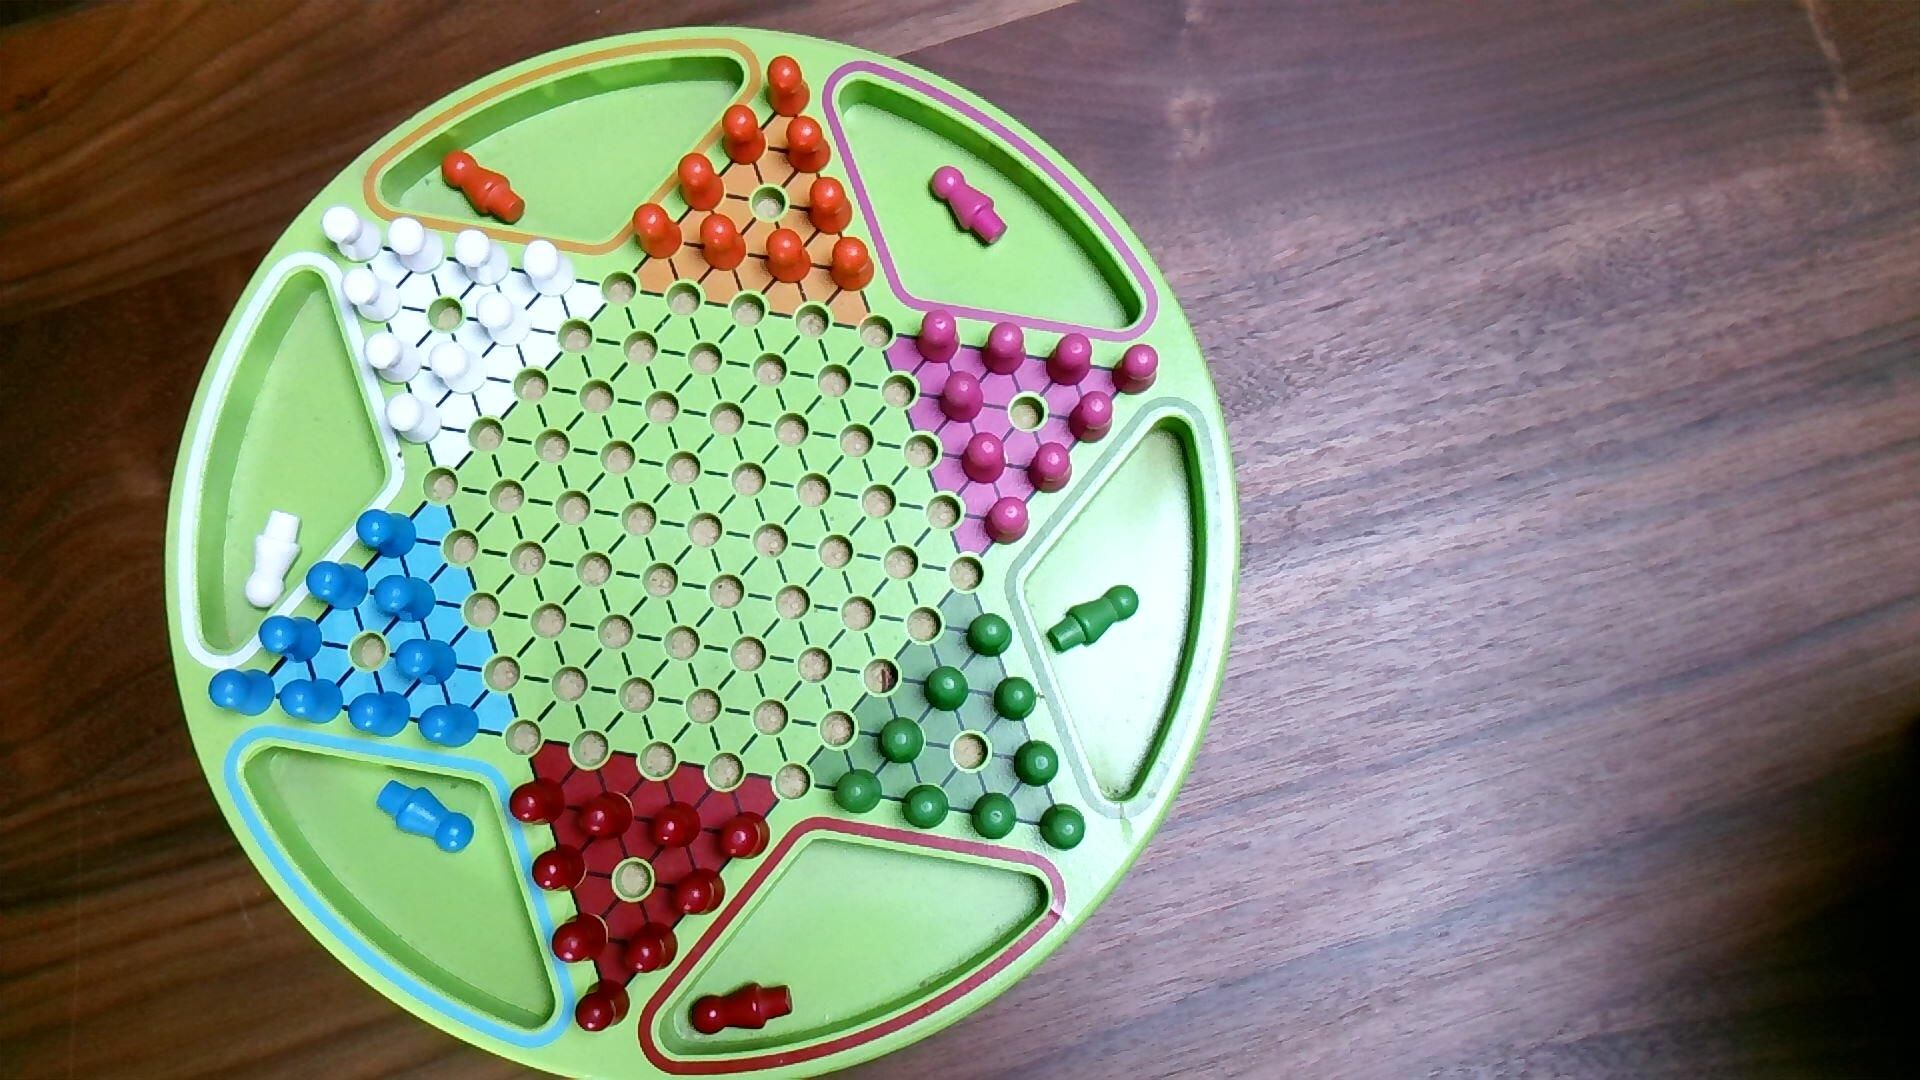B: (372, 572, 439, 626), (393, 636, 462, 688), (207, 667, 278, 717), (355, 506, 419, 560), (307, 559, 371, 613), (348, 688, 413, 741), (258, 615, 324, 666), (278, 676, 345, 727), (417, 702, 483, 752)
G: (876, 715, 928, 766), (1038, 802, 1089, 853), (832, 767, 885, 818), (922, 665, 973, 715), (971, 791, 1021, 843), (1013, 738, 1062, 790), (965, 611, 1015, 659), (901, 783, 952, 831), (992, 675, 1040, 723)
O: (719, 102, 770, 170), (632, 200, 687, 262), (698, 211, 750, 276), (764, 51, 814, 119), (676, 150, 729, 214), (762, 225, 815, 287), (804, 174, 856, 237), (825, 233, 877, 295), (785, 115, 833, 175)
R: (574, 976, 633, 1035), (618, 919, 680, 976), (574, 787, 636, 844), (551, 909, 611, 967), (508, 774, 568, 829), (716, 808, 773, 862), (530, 843, 589, 894), (670, 865, 728, 916), (647, 798, 703, 851)
R2: (978, 319, 1029, 378), (914, 307, 963, 368), (1044, 331, 1095, 389), (1110, 342, 1160, 398), (1026, 440, 1075, 497), (1067, 389, 1116, 446), (982, 495, 1033, 549), (938, 371, 986, 426), (960, 430, 1007, 487)
W: (320, 203, 386, 265), (452, 227, 514, 289), (385, 215, 448, 276), (342, 264, 404, 324), (429, 338, 491, 397), (522, 237, 579, 302), (475, 290, 535, 349), (363, 331, 425, 386), (386, 392, 444, 447)
